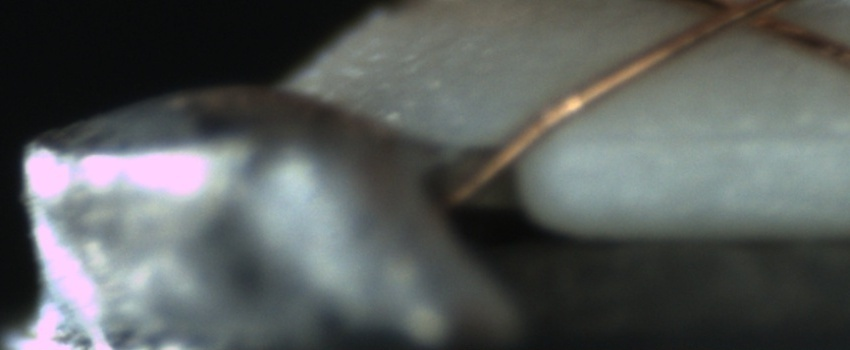CL: (684, 1, 805, 40)
DL: (576, 104, 845, 171)
